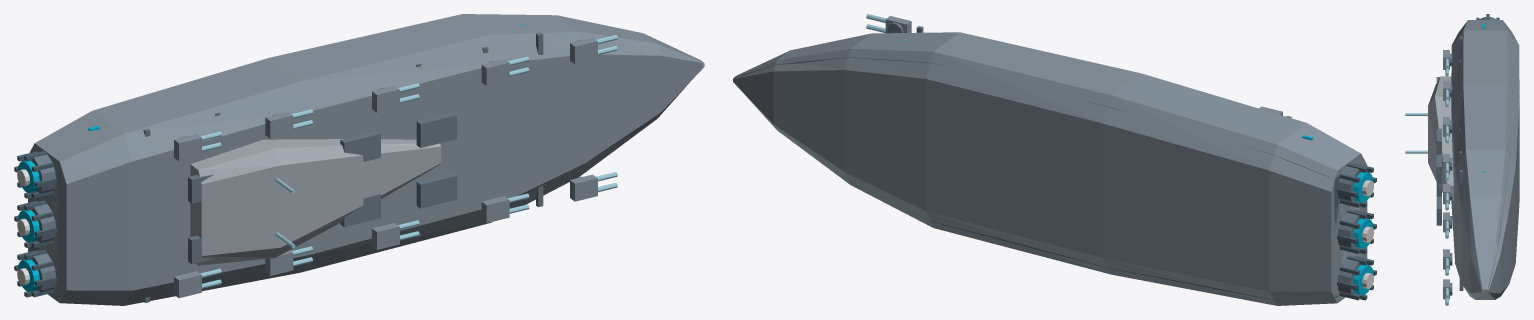
File: flag-terran.glb
The picture shows the model from 3 angles, left to right: view 1: azimuth 30°, elevation 25°; view 2: azimuth 150°, elevation 25°; view 3: azimuth 270°, elevation 25°; orthographic projection. The views are drawn at different scales.
Visible parts, largest first — view 1: hull_0000, superstructure_0092, bridge_segments_0140, bridge_segments_0139, bridge_segments_0138, bridge_segments_0137, turret_0106, turret_0118, turret_0122, turret_0126, turret_0114, turret_0094 (+8 smaller); view 2: hull_0000, lower_keel_0002, engine_casing_0070, engine_casing_0081, engine_casing_0059; view 3: hull_0000, superstructure_0092, bridge_segments_0139, bridge_segments_0140, bridge_segments_0138, turret_0106, lower_keel_0002, turret_0118, turret_0110, turret_0122, turret_0126, turret_0130 (+3 smaller).
Part boxes in pixels (left/top/right/bottom): hull_0000: left=28, top=14, right=703, bottom=305; superstructure_0092: left=190, top=139, right=441, bottom=265; bridge_segments_0140: left=416, top=112, right=456, bottom=147; bridge_segments_0139: left=416, top=173, right=456, bottom=208; bridge_segments_0138: left=340, top=131, right=380, bottom=161; bridge_segments_0137: left=340, top=193, right=380, bottom=227; turret_0106: left=265, top=112, right=293, bottom=138; turret_0118: left=481, top=196, right=509, bottom=222; turret_0122: left=481, top=59, right=509, bottom=85; turret_0126: left=570, top=174, right=597, bottom=201; turret_0114: left=372, top=85, right=399, bottom=112; turret_0094: left=174, top=271, right=201, bottom=298; hull_0000: left=733, top=32, right=1367, bottom=305; lower_keel_0002: left=734, top=57, right=1339, bottom=300; engine_casing_0070: left=1337, top=210, right=1369, bottom=249; engine_casing_0081: left=1337, top=164, right=1369, bottom=202; engine_casing_0059: left=1337, top=256, right=1369, bottom=295; hull_0000: left=1451, top=20, right=1519, bottom=299; superstructure_0092: left=1428, top=76, right=1453, bottom=200; bridge_segments_0139: left=1436, top=196, right=1441, bottom=225; bridge_segments_0140: left=1436, top=154, right=1441, bottom=183; bridge_segments_0138: left=1436, top=128, right=1441, bottom=154; turret_0106: left=1443, top=80, right=1449, bottom=100; lower_keel_0002: left=1487, top=30, right=1512, bottom=292; turret_0118: left=1443, top=249, right=1449, bottom=269; turret_0110: left=1443, top=212, right=1449, bottom=232; turret_0122: left=1443, top=154, right=1449, bottom=174; turret_0126: left=1443, top=279, right=1449, bottom=299; turret_0130: left=1443, top=184, right=1449, bottom=204.
Size of the model in its own units: 22.29 by 6 by 4.68.
